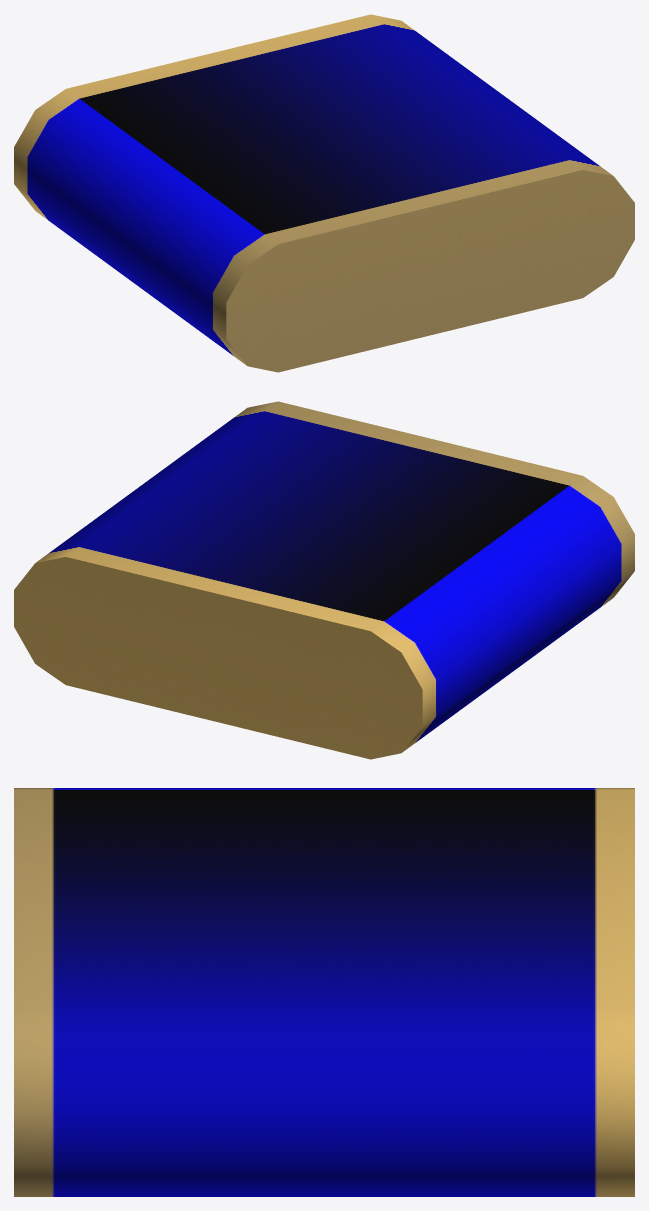
Rendered from conveyer.glb.
The picture shows the model from 3 angles, top to bottom: view 1: azimuth 30°, elevation 25°; view 2: azimuth 150°, elevation 25°; view 3: azimuth 270°, elevation 25°; orthographic projection. The views are drawn at different scales.
Parts seen in each view (by area): view 1: Cube; view 2: Cube; view 3: Cube.
Part boxes in pixels (<box>): Cube: <box>14,14,634,372</box>; Cube: <box>14,401,634,759</box>; Cube: <box>14,788,634,1196</box>.
Bounding box in the file's own units: 2 × 0.6 × 1.8.
Materials: 1 (1 with a texture image).
